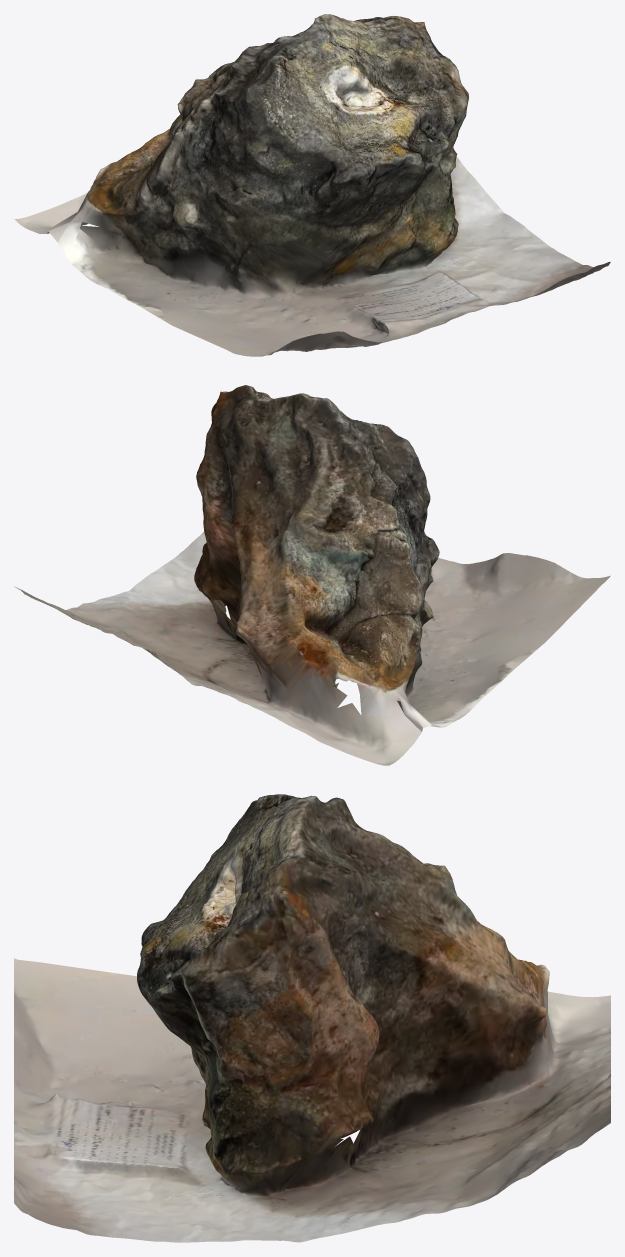
The model's file is hydrothermal-vent-optimized.glb.
3 views of the same model, one above another, from view 1: azimuth 30°, elevation 25°; view 2: azimuth 150°, elevation 25°; view 3: azimuth 270°, elevation 25° (orthographic). The views are drawn at different scales.
Parts seen in each view (by area): view 1: Object_2, Object_3; view 2: Object_2, Object_3; view 3: Object_2, Object_3.
Part boxes in pixels (x1,y1,x2,y2): Object_2: (39,15,574,345); Object_3: (14,14,610,356); Object_2: (14,385,545,755); Object_3: (19,385,610,765); Object_2: (14,794,610,1240); Object_3: (14,796,610,1242).
Bounding box in the file's own units: 0.3604 × 0.2298 × 0.37.
Materials: 1 (1 with a texture image).
